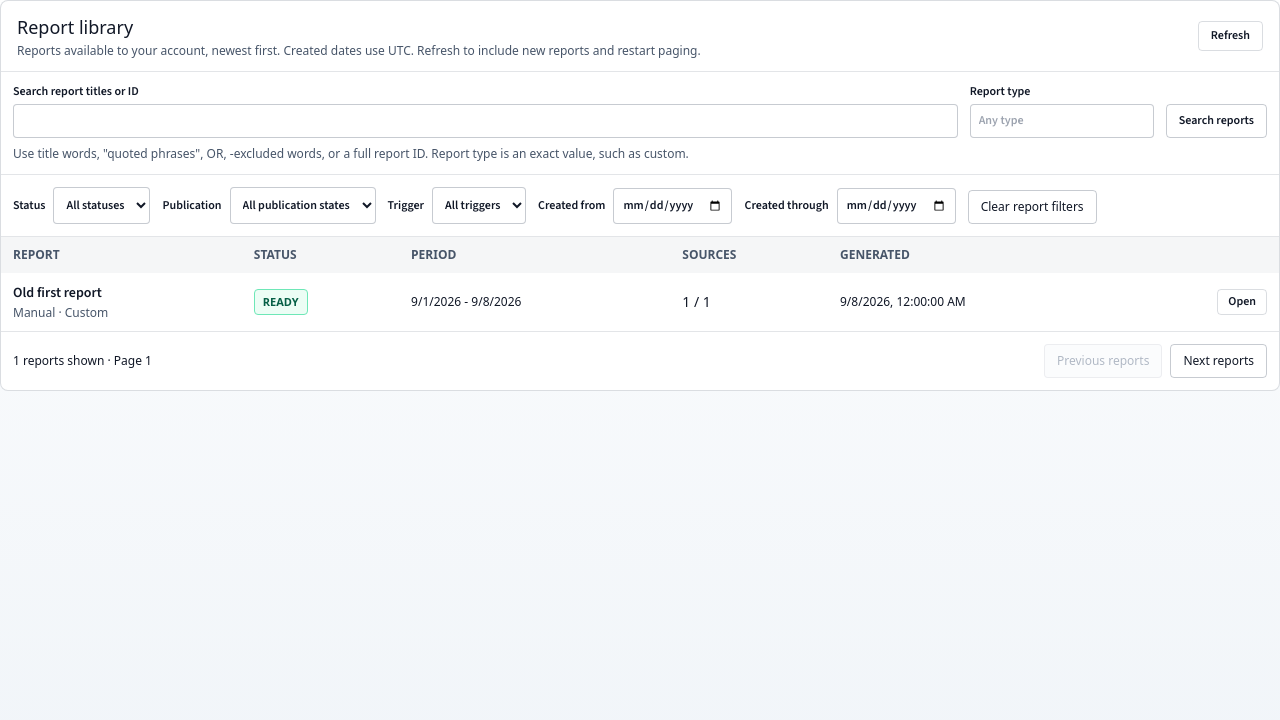
Test: keeps new filters and their cursor after an obsolete page response finishes
Step 1. Click the button "Next reports" → (1219, 361), box [1170,344,1267,378]
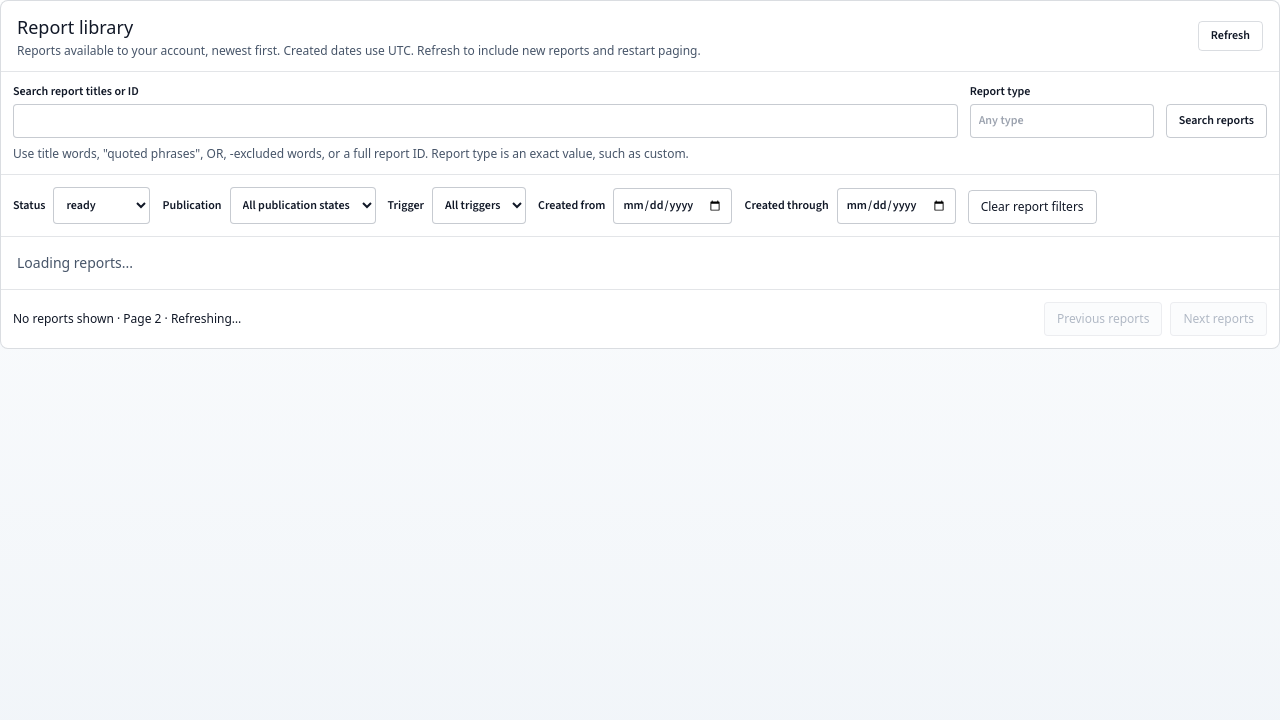
Step 2. Select "ready" in the dropdown named "Report status" → (102, 206), box [54,187,150,224]
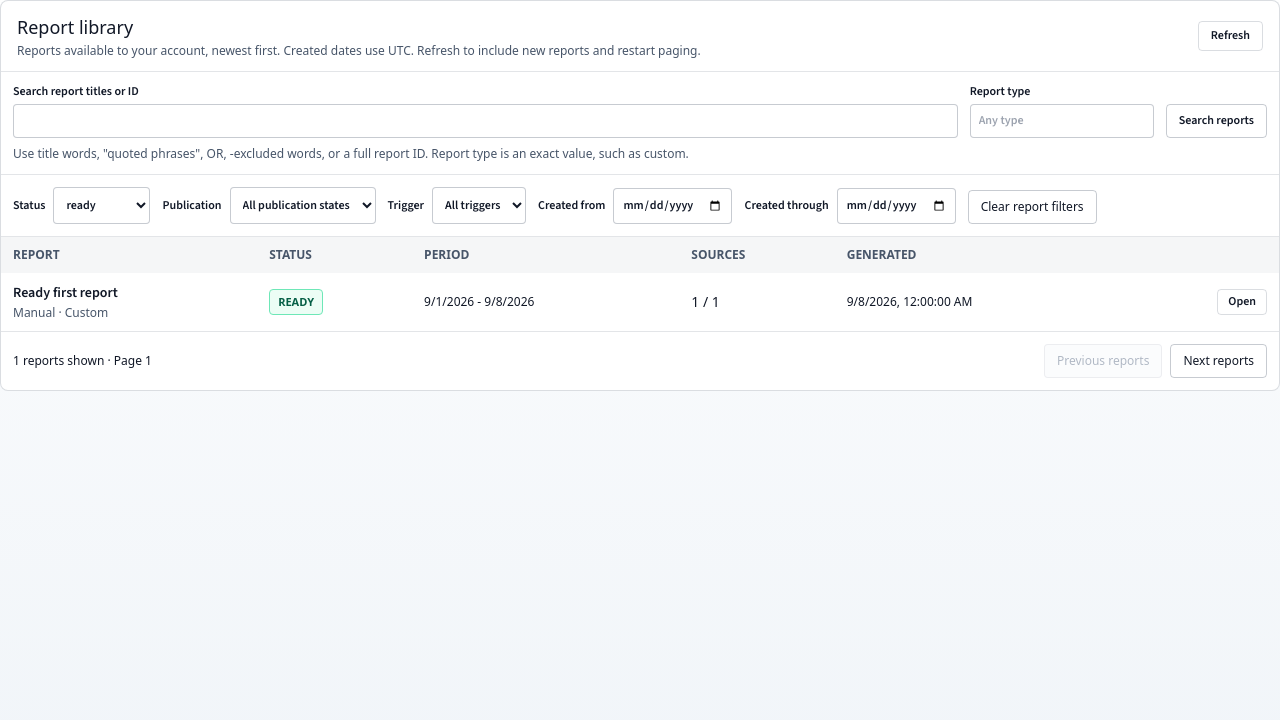
Expected: the text "Ready first report" is shown, [13,283,118,303]
Expected: the text "Page 1" is shown, [13,353,152,369]
Step 3. Click the button "Next reports" → (1219, 361), box [1170,344,1267,378]
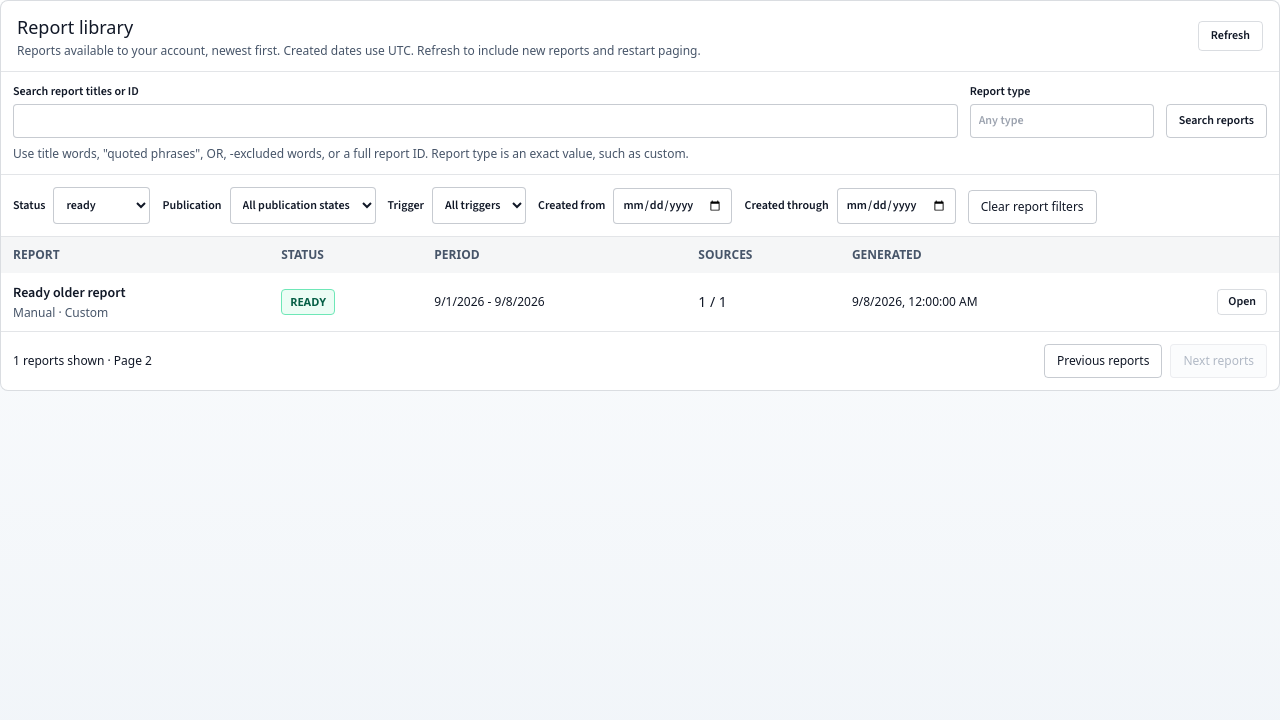
Expected: the text "Ready older report" is shown, [13,283,126,303]
Expected: the text "Page 2" is shown, [13,353,152,369]
